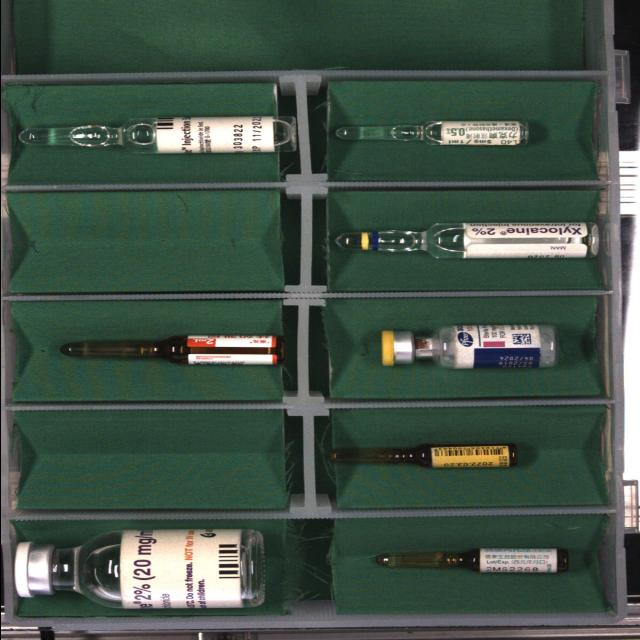Vials: (13, 529, 263, 609), (381, 325, 555, 369)
